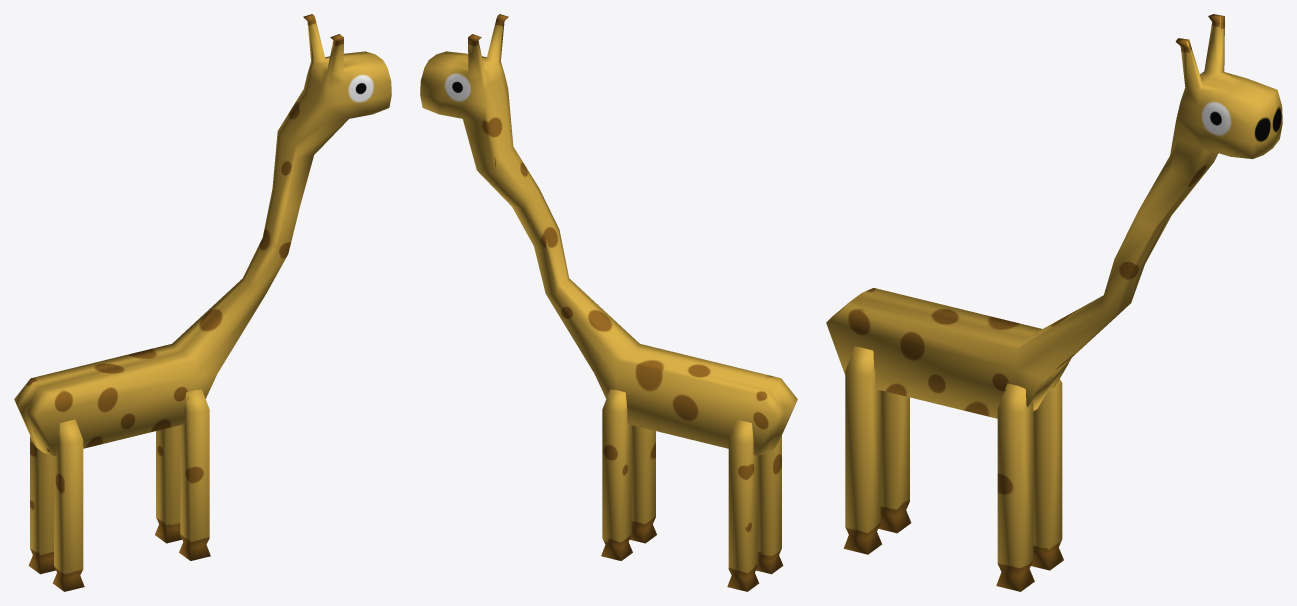
The model's file is Giraffe.fbx.
3 views of the same model, side by side, from view 1: azimuth 30°, elevation 25°; view 2: azimuth 150°, elevation 25°; view 3: azimuth 330°, elevation 25° (orthographic). The views are drawn at different scales.
Parts seen in each view (by area): view 1: Giraffe; view 2: Giraffe; view 3: Giraffe.
Part boxes in pixels (left/top/right/bottom): Giraffe: left=14, top=14, right=391, bottom=591; Giraffe: left=420, top=14, right=797, bottom=591; Giraffe: left=826, top=14, right=1282, bottom=591.
Size of the model in its own units: 172 by 221 by 31.38.
